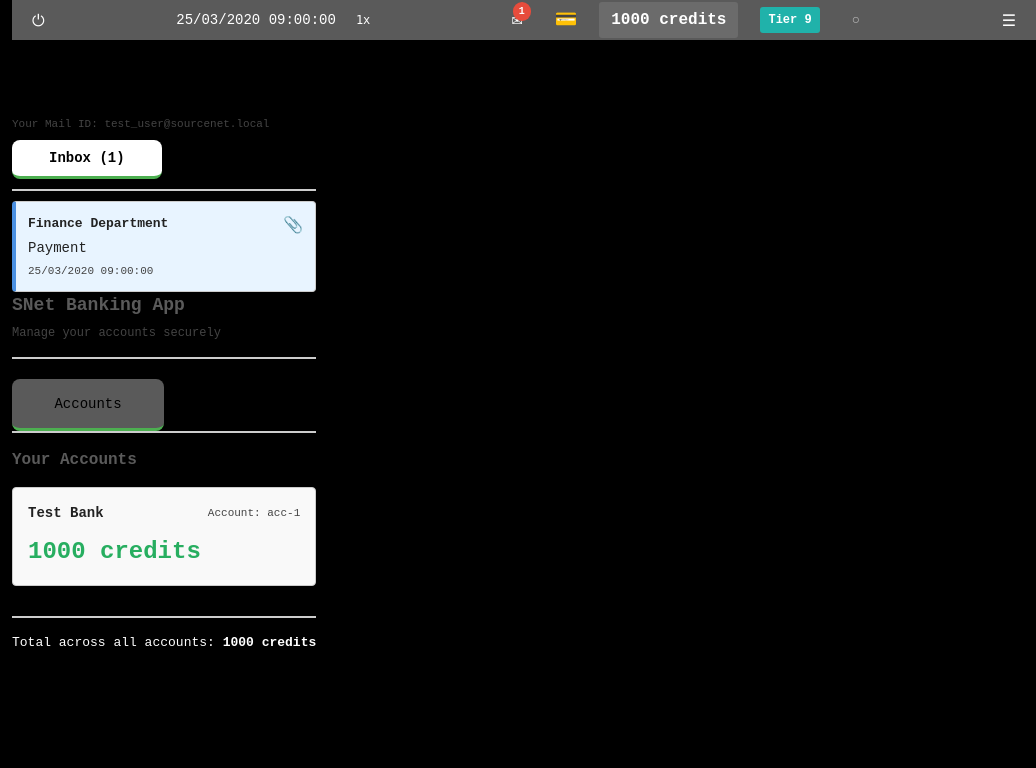
it: Cheque Deposit Integration › should handle cancel cheque deposit flow
The width and height of the screenshot is (1036, 768).
Expected: the text titled "Click to open Banking App" next to "Tier" reads "1000 credits", [599,2,738,38]
// Click the message to open it
What coordinates should you click on to do the following:
click the text "Payment"
I would click on:
 (57, 248)
Its box is [28,240,87,256].
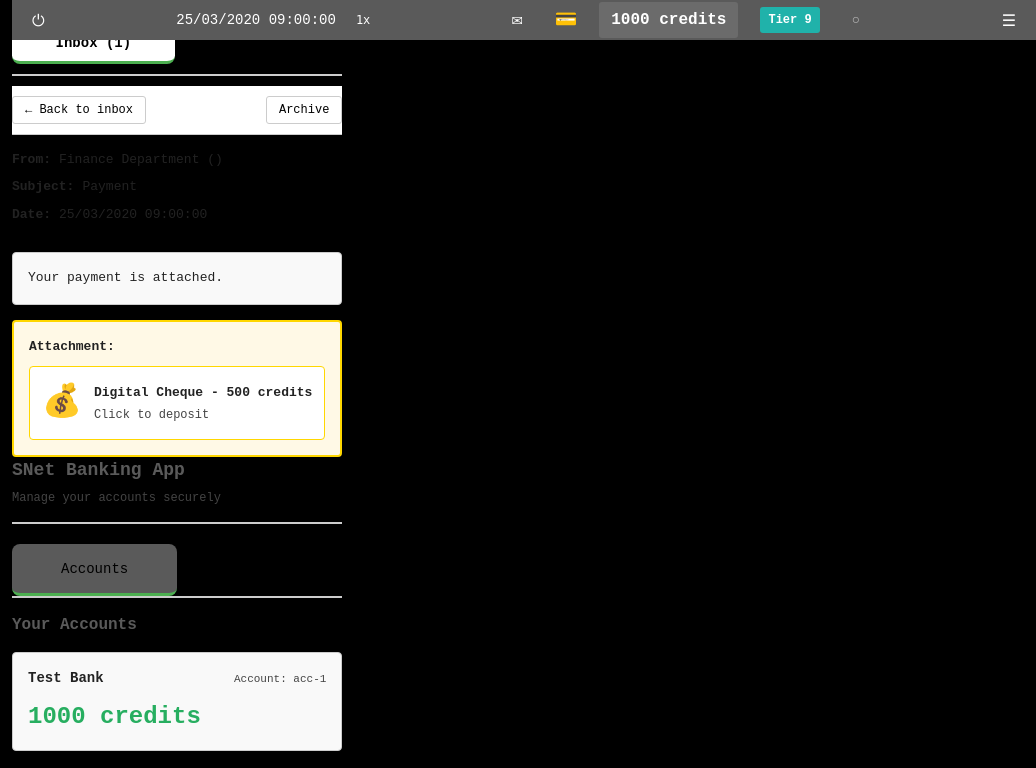
// Click the cheque attachment to trigger deposit prompt
What coordinates should you click on to do the following:
click the text "Digital Cheque - 500 credits"
I would click on:
 (203, 392)
Its box is [94,382,312,402].
(page scrolled)
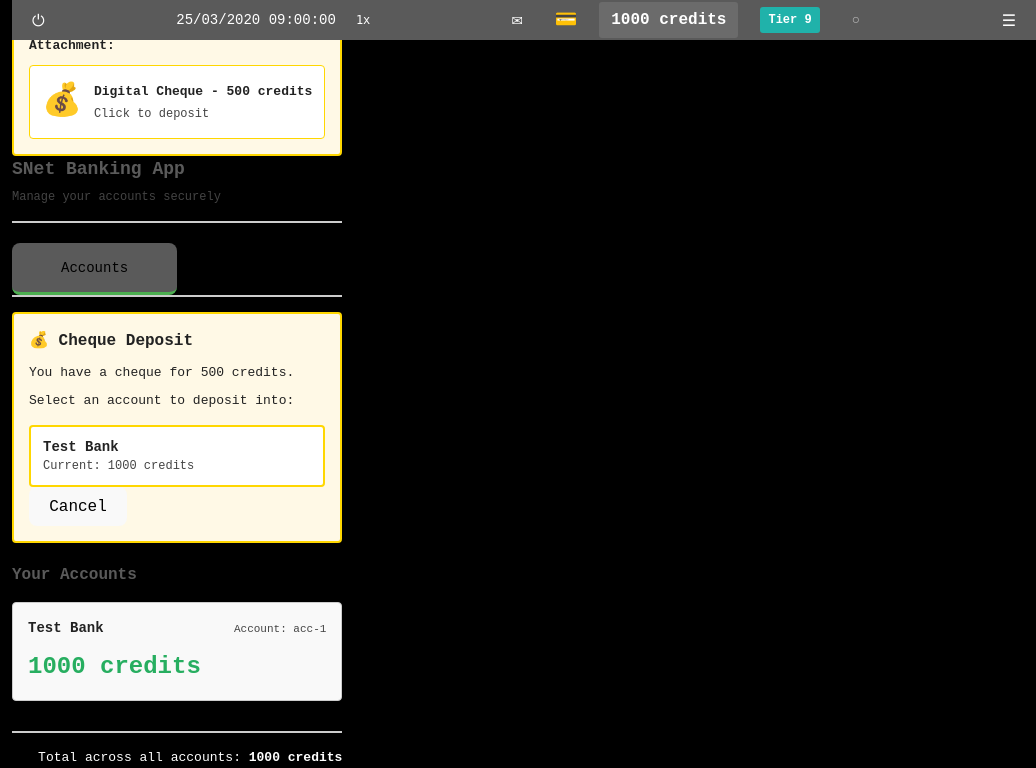
Expected: the text "💰 Cheque Deposit" is shown, [29,332,193,350]
// Click the cancel button
What coordinates should you click on to do the following:
click the button "Cancel"
I would click on:
 (78, 507)
Its box is [29,487,127,526].
(page scrolled)
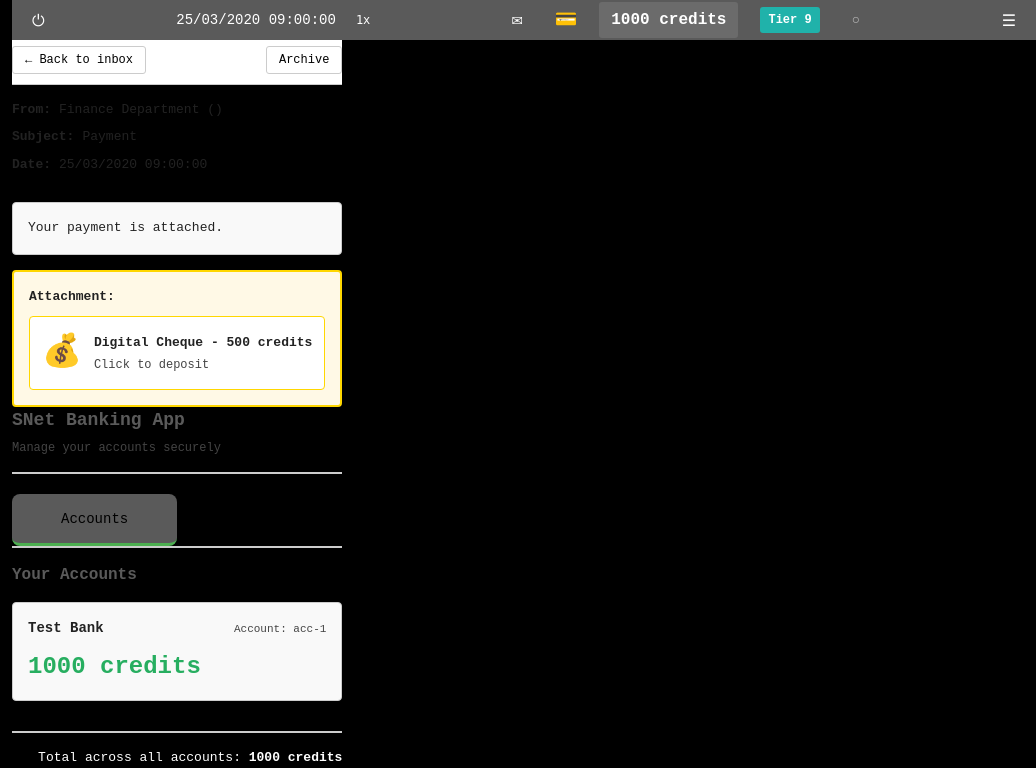
Expected: the text titled "Click to open Banking App" next to "Tier" reads "1000 credits", [599,2,738,38]
Expected: the text "Click to deposit" is shown, [94,358,209,372]
Expected: the text "💰 Cheque Deposit" is gone
